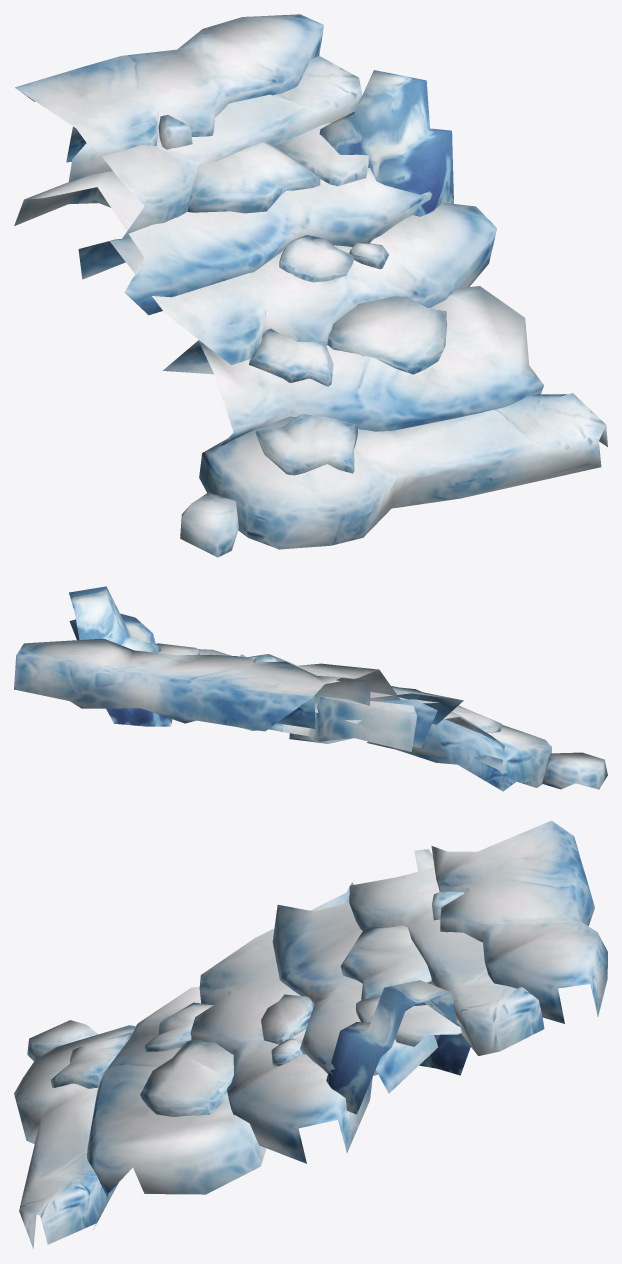
Rendered from SM_Stairs_05.fbx.
The picture shows the model from 3 angles, top to bottom: view 1: azimuth 30°, elevation 25°; view 2: azimuth 150°, elevation 25°; view 3: azimuth 270°, elevation 25°; orthographic projection. The views are drawn at different scales.
Visible parts, largest first — view 1: SM_Stairs_05; view 2: SM_Stairs_05; view 3: SM_Stairs_05.
Part boxes in pixels (box(x1,y1,x2,y2)): SM_Stairs_05: box(14, 14, 607, 557); SM_Stairs_05: box(14, 586, 607, 791); SM_Stairs_05: box(14, 820, 607, 1248).
Size of the model in its own units: 7.48 by 4.67 by 8.97.
